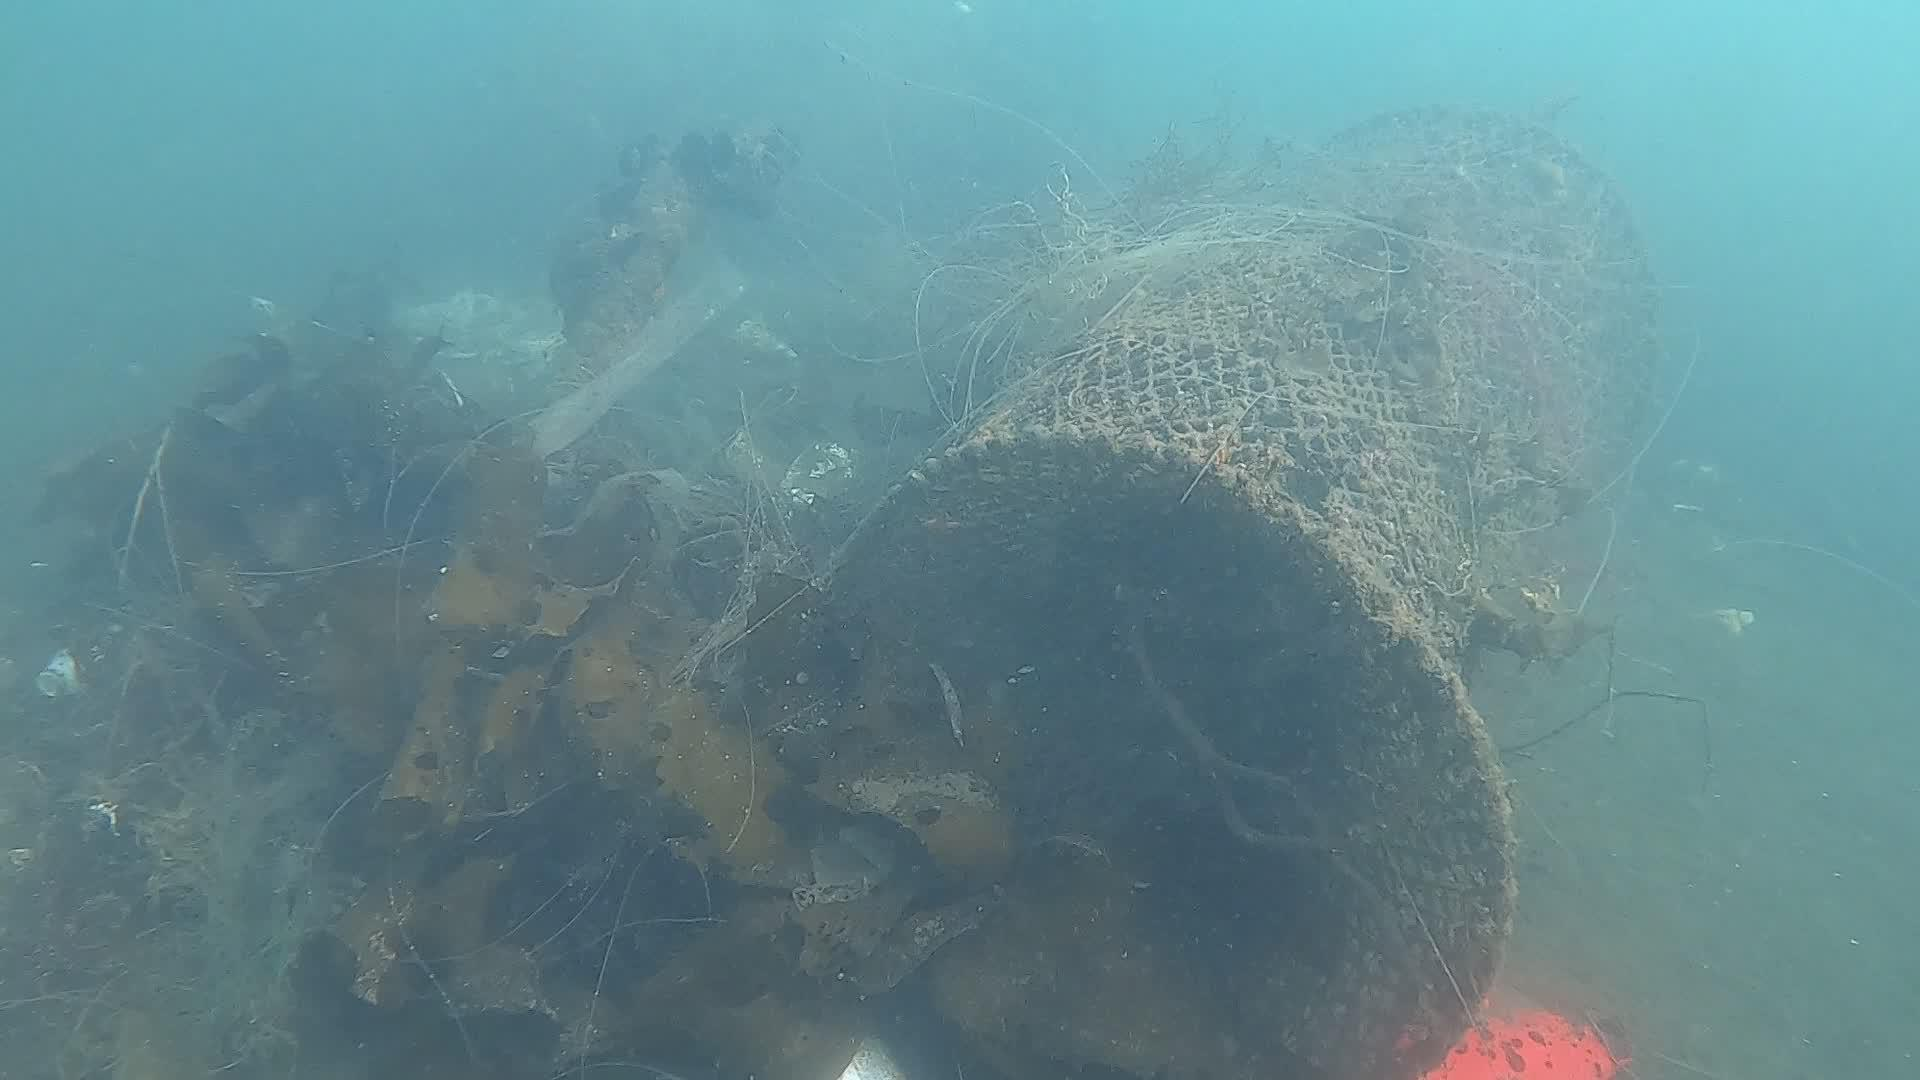spring fish trap: (796, 111, 1668, 1080)
